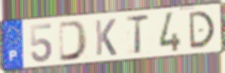4: (157, 10, 183, 54)
5: (29, 22, 54, 64)
D: (57, 19, 90, 63), (188, 10, 217, 51)
K: (94, 18, 118, 57)
T: (124, 13, 151, 56)
